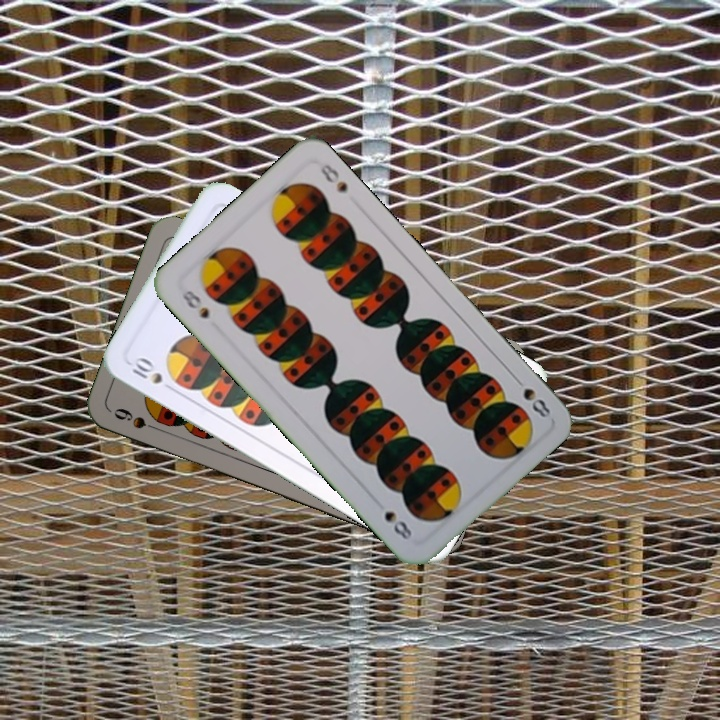S10: (125, 353, 166, 387)
S8: (509, 371, 553, 421), (177, 286, 212, 322)
S9: (109, 404, 166, 435)
